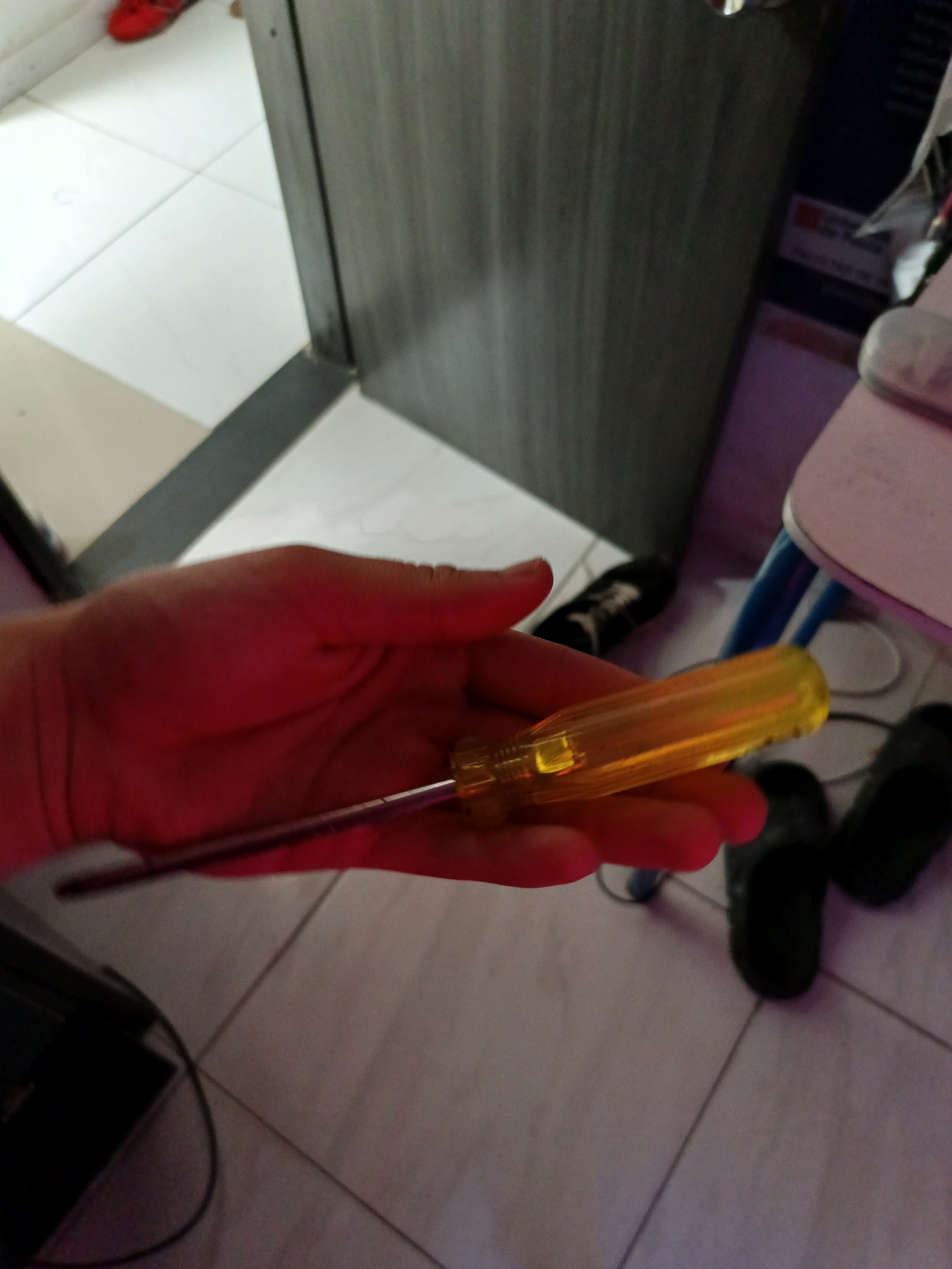Destornillador: (56, 647, 828, 898)
